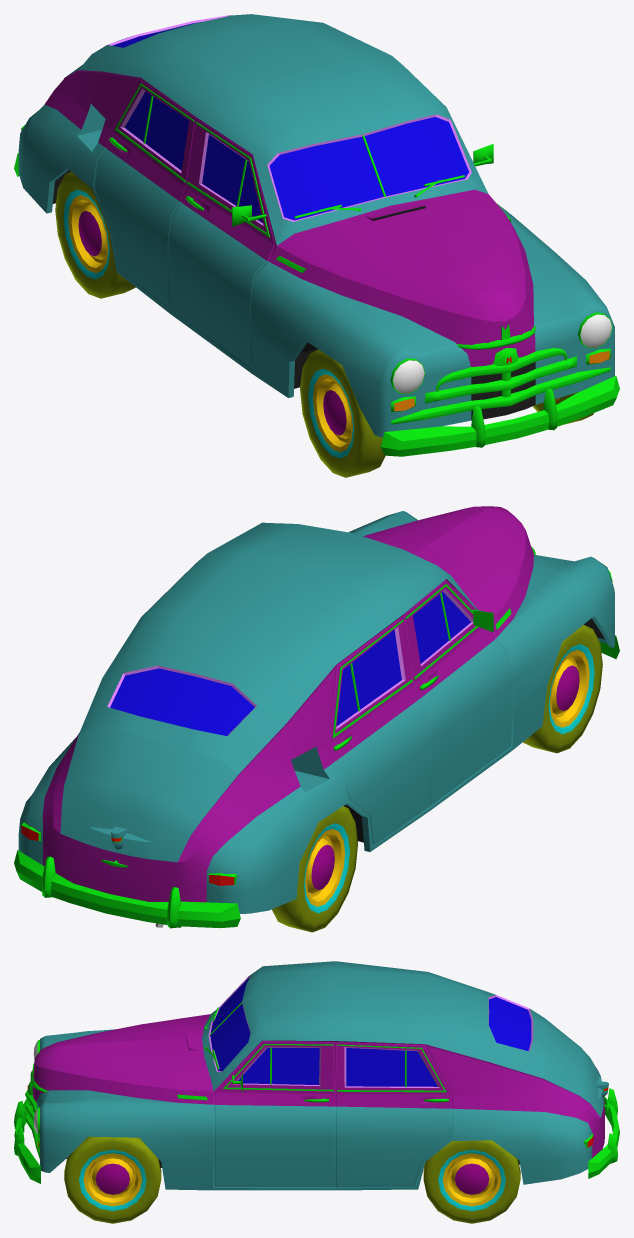
Rendered from Pobeda1.fbx.
The picture shows the model from 3 angles, top to bottom: view 1: azimuth 30°, elevation 25°; view 2: azimuth 150°, elevation 25°; view 3: azimuth 270°, elevation 25°; orthographic projection. The views are drawn at different scales.
Visible parts, largest first — view 1: Body, Wheel_FR, Wheel_RR; view 2: Body, Wheel_RR, Wheel_FR; view 3: Body, Wheel_FL, Wheel_RL.
Part boxes in pixels (box(x1,y1,x2,y2)): Body: box(14, 14, 619, 456); Wheel_FR: box(300, 349, 385, 477); Wheel_RR: box(55, 172, 135, 298); Body: box(14, 506, 619, 928); Wheel_RR: box(272, 806, 357, 932); Wheel_FR: box(523, 624, 602, 753); Body: box(14, 961, 619, 1190); Wheel_FL: box(64, 1136, 161, 1223); Wheel_RL: box(423, 1140, 520, 1223).
Bounding box in the file's own units: 167 × 161 × 457.
